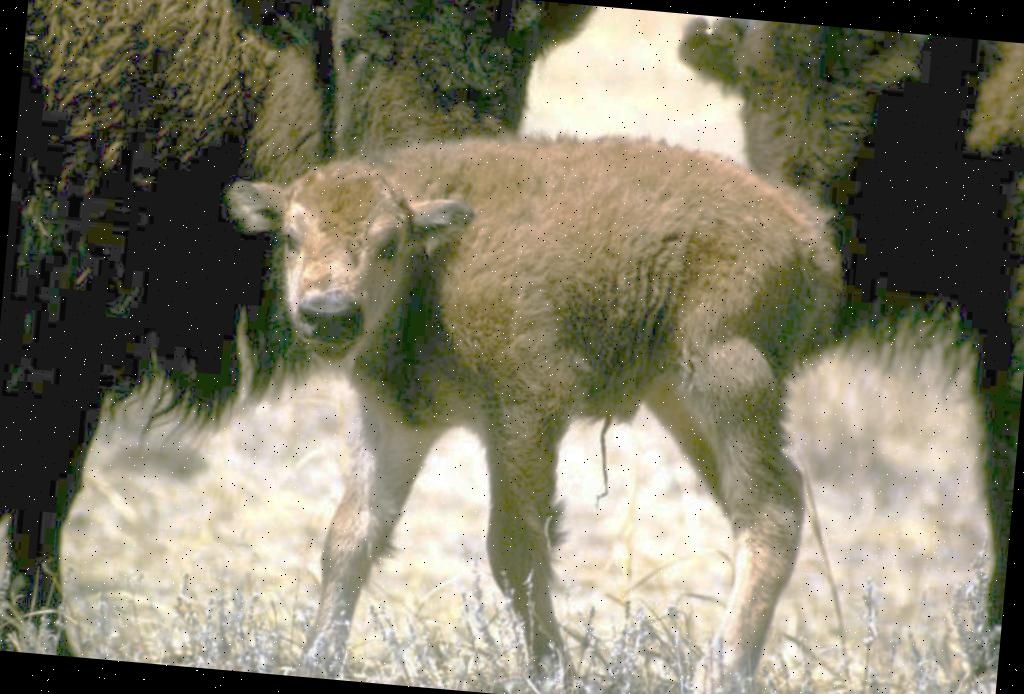Sheep: (0, 0, 596, 694), (195, 103, 836, 694), (627, 13, 1024, 668)
